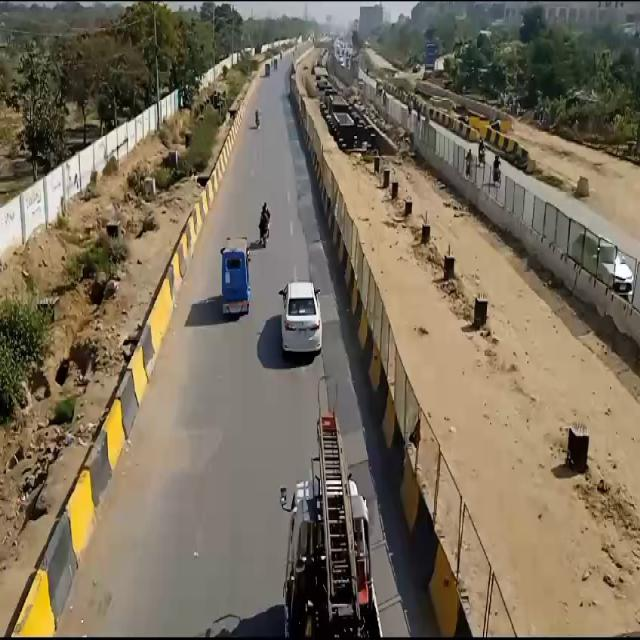car: (282, 280, 322, 357)
motorbike: (258, 194, 272, 256)
truck: (267, 369, 393, 640)
